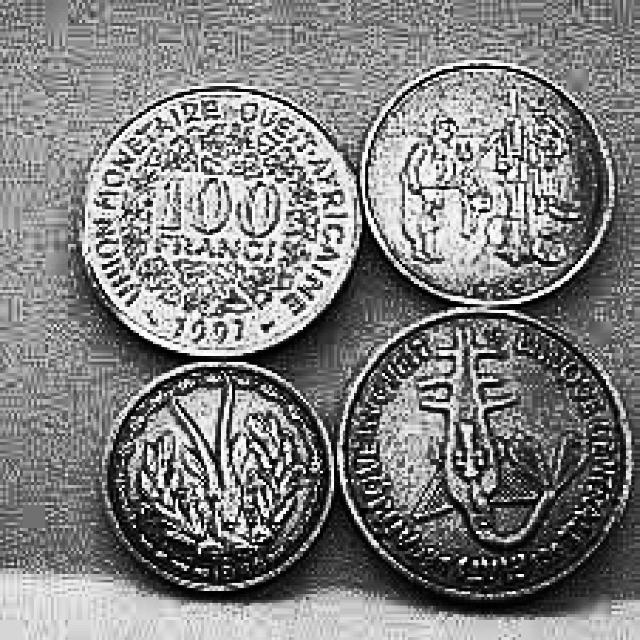derem: (106, 362, 334, 592)
niaari derem: (362, 63, 612, 305)
niaari fukk: (339, 309, 629, 602), (82, 86, 362, 357)
